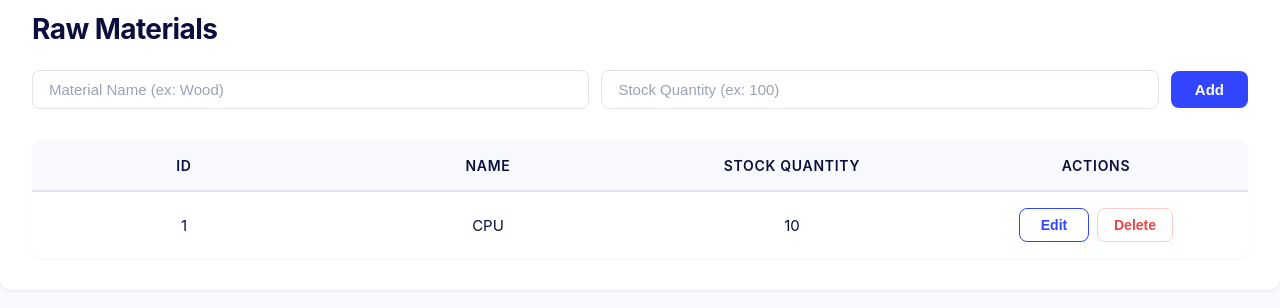
Test: RawMaterials Component › Interações do Usuário › altera o formulário para modo de edição ao clicar em Edit
Expected: the text "CPU" is shown, x1=336 y1=192 x2=640 y2=258
Click the button "Edit": (1054, 225) x1=1019 y1=208 x2=1089 y2=242
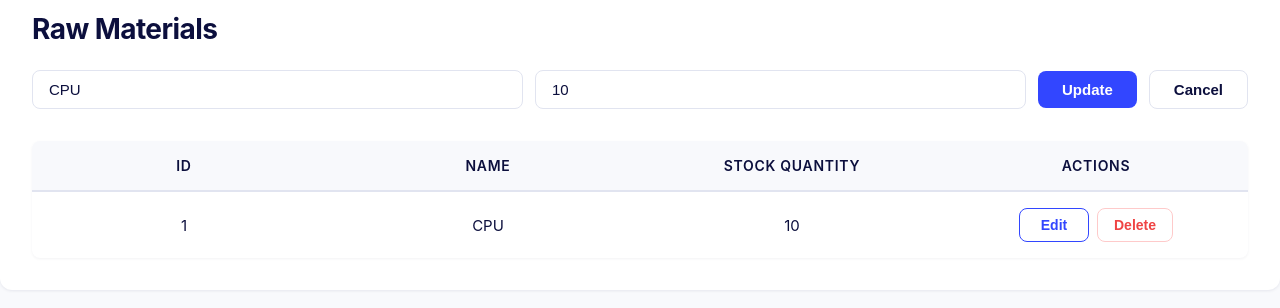
Expected: the button "Update" is shown, x1=1038 y1=71 x2=1137 y2=108
Expected: the button "Cancel" is shown, x1=1149 y1=70 x2=1248 y2=109
